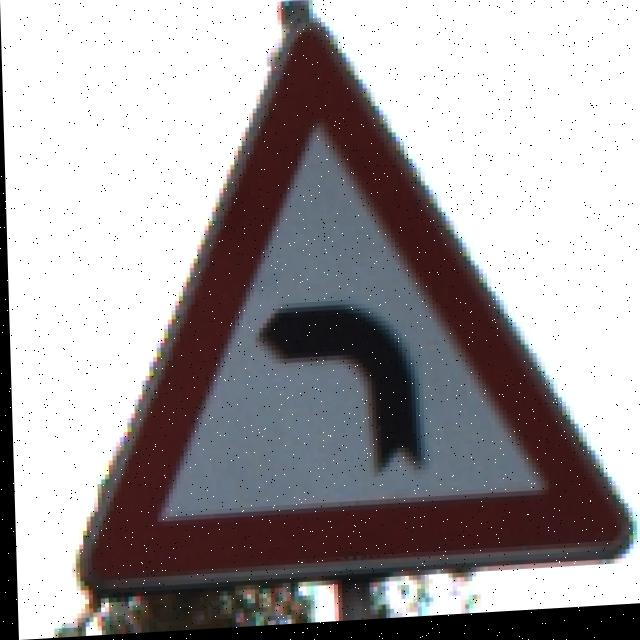left_turn: (93, 14, 632, 597)
